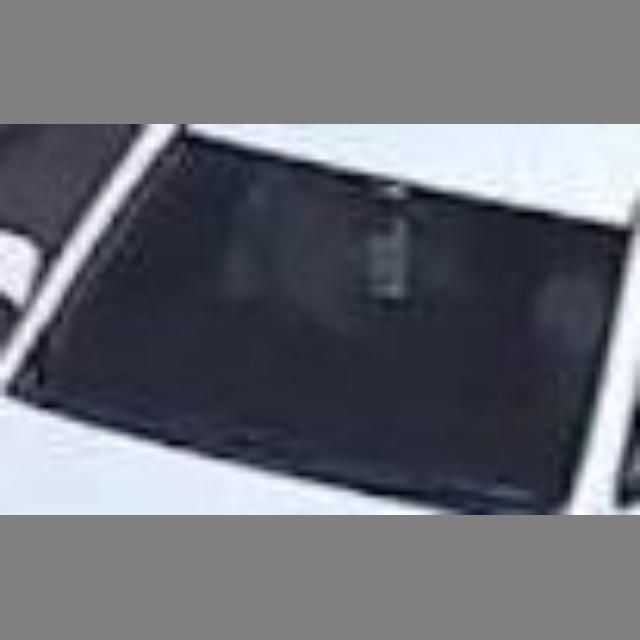tidak-pakai: (224, 167, 435, 373)
